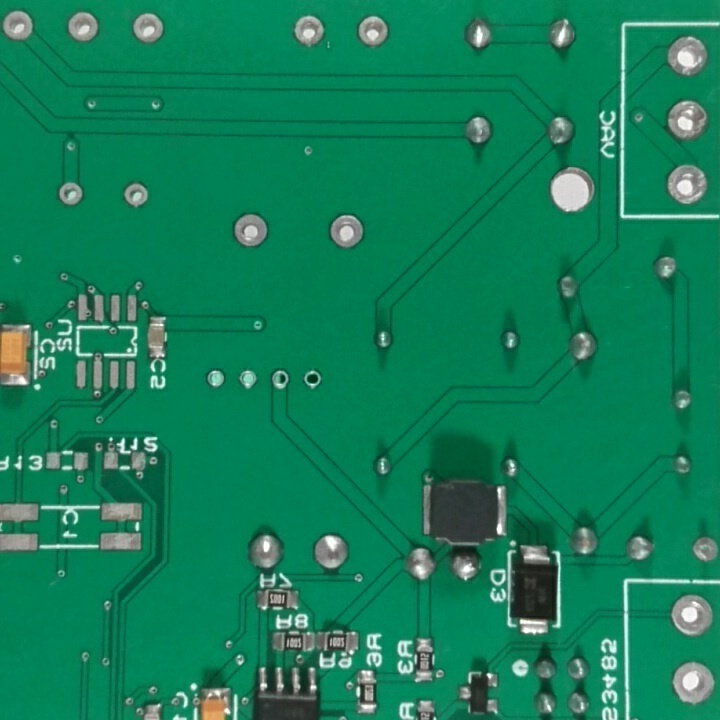F: (667, 660, 720, 706), (661, 162, 710, 209), (661, 31, 707, 81), (663, 96, 711, 143), (670, 591, 716, 640), (326, 212, 370, 255), (228, 210, 268, 253), (130, 9, 167, 51), (353, 14, 392, 50), (290, 15, 329, 50), (1, 7, 36, 45), (64, 10, 101, 43), (119, 179, 152, 211), (686, 535, 720, 566), (55, 178, 87, 209), (267, 366, 293, 392), (236, 367, 261, 392), (202, 367, 227, 391), (301, 367, 321, 392)
